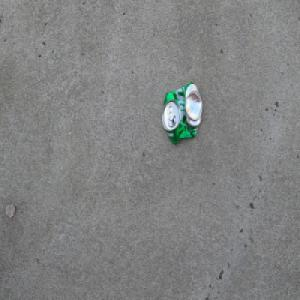SodaCan: (161, 80, 202, 145)
